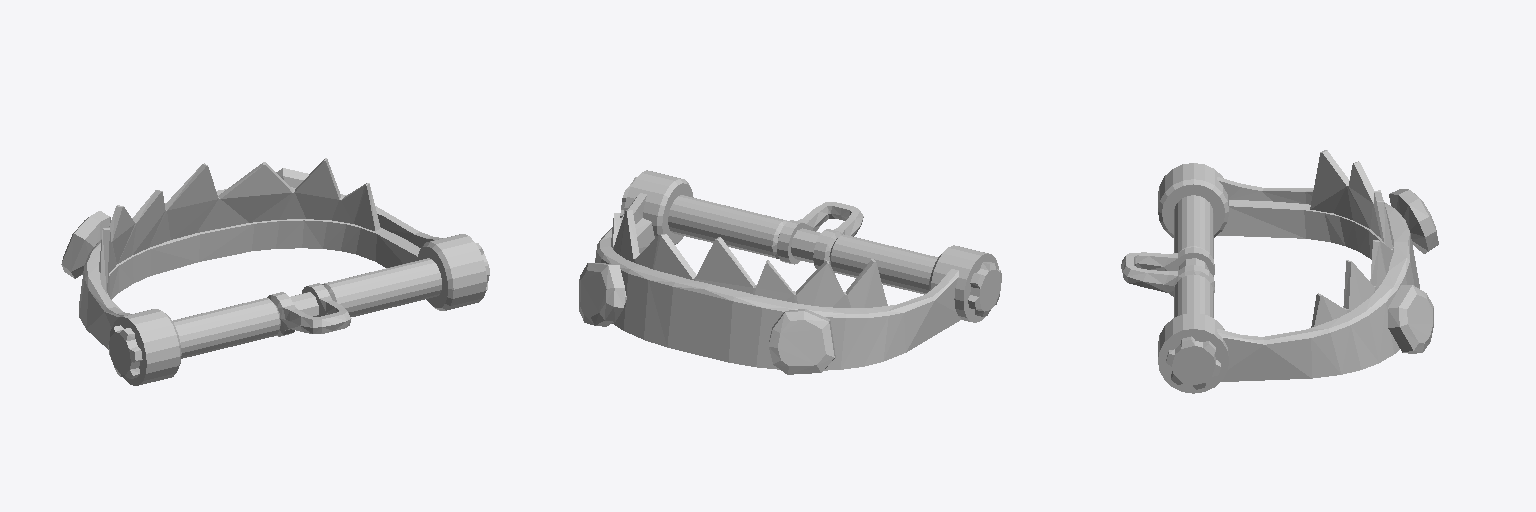
Rendered from junkrat_trap_top.obj.
3 views of the same model, side by side, from view 1: azimuth 30°, elevation 25°; view 2: azimuth 150°, elevation 25°; view 3: azimuth 270°, elevation 25° (orthographic).
Visible parts, largest first — view 1: Submesh_4.1.1264A04DE527E415; view 2: Submesh_4.1.1264A04DE527E415; view 3: Submesh_4.1.1264A04DE527E415.
Boxes of the visible parts, box(x1,y1,x2,y2) form: Submesh_4.1.1264A04DE527E415: box(61, 158, 489, 385); Submesh_4.1.1264A04DE527E415: box(579, 170, 1001, 374); Submesh_4.1.1264A04DE527E415: box(1121, 150, 1438, 393).
Bounding box in the file's own units: 1.16 × 0.3398 × 0.8952.